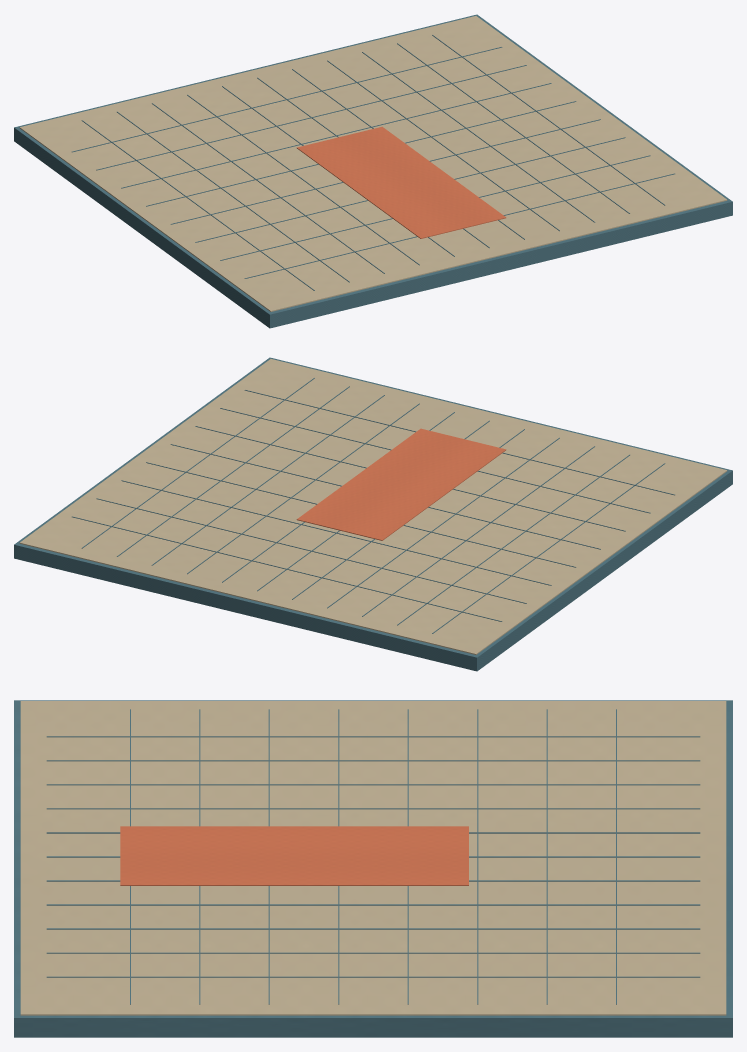
The model's file is atlas100-s045-a07.glb.
The picture shows the model from 3 angles, top to bottom: view 1: azimuth 30°, elevation 25°; view 2: azimuth 150°, elevation 25°; view 3: azimuth 270°, elevation 25°; orthographic projection. The views are drawn at different scales.
Parts seen in each view (by area): view 1: atlas100-s045-a07:part-001, atlas100-s045-a07:part-000, atlas100-s045-a07:part-021, atlas100-s045-a07:part-013, atlas100-s045-a07:part-014, atlas100-s045-a07:part-015, atlas100-s045-a07:part-020, atlas100-s045-a07:part-018, atlas100-s045-a07:part-019, atlas100-s045-a07:part-017, atlas100-s045-a07:part-016; view 2: atlas100-s045-a07:part-001, atlas100-s045-a07:part-000, atlas100-s045-a07:part-021, atlas100-s045-a07:part-013, atlas100-s045-a07:part-015, atlas100-s045-a07:part-014, atlas100-s045-a07:part-020, atlas100-s045-a07:part-016, atlas100-s045-a07:part-017, atlas100-s045-a07:part-018, atlas100-s045-a07:part-019; view 3: atlas100-s045-a07:part-001, atlas100-s045-a07:part-000, atlas100-s045-a07:part-021, atlas100-s045-a07:part-010, atlas100-s045-a07:part-009, atlas100-s045-a07:part-012, atlas100-s045-a07:part-002, atlas100-s045-a07:part-003, atlas100-s045-a07:part-004, atlas100-s045-a07:part-005, atlas100-s045-a07:part-011, atlas100-s045-a07:part-006 (+4 smaller).
Boxes of the visible parts, x1,y1,x2,y2 form: atlas100-s045-a07:part-001: (19,16,727,311); atlas100-s045-a07:part-000: (14,14,732,328); atlas100-s045-a07:part-021: (297,126,506,238); atlas100-s045-a07:part-013: (72,47,502,152); atlas100-s045-a07:part-014: (96,65,526,170); atlas100-s045-a07:part-015: (121,83,551,188); atlas100-s045-a07:part-020: (244,173,674,278); atlas100-s045-a07:part-018: (195,137,625,242); atlas100-s045-a07:part-019: (220,155,650,260); atlas100-s045-a07:part-017: (170,119,600,224); atlas100-s045-a07:part-016: (146,101,576,206); atlas100-s045-a07:part-001: (19,359,727,654); atlas100-s045-a07:part-000: (14,357,732,671); atlas100-s045-a07:part-021: (296,428,506,540); atlas100-s045-a07:part-013: (72,516,502,621); atlas100-s045-a07:part-015: (121,480,551,585); atlas100-s045-a07:part-014: (96,498,526,603); atlas100-s045-a07:part-020: (244,390,674,495); atlas100-s045-a07:part-016: (146,462,576,567); atlas100-s045-a07:part-017: (170,444,600,549); atlas100-s045-a07:part-018: (195,426,625,531); atlas100-s045-a07:part-019: (220,408,650,513); atlas100-s045-a07:part-001: (20,701,726,1015); atlas100-s045-a07:part-000: (14,700,732,1037); atlas100-s045-a07:part-021: (120,826,468,885); atlas100-s045-a07:part-010: (46,928,700,929); atlas100-s045-a07:part-009: (46,904,700,905); atlas100-s045-a07:part-012: (46,976,700,977); atlas100-s045-a07:part-002: (46,736,700,737); atlas100-s045-a07:part-003: (46,760,700,761); atlas100-s045-a07:part-004: (46,784,700,785); atlas100-s045-a07:part-005: (46,808,700,809); atlas100-s045-a07:part-011: (46,952,700,953); atlas100-s045-a07:part-006: (46,832,700,833).
Bounding box in the file's own units: 11.9 × 0.404 × 11.39.
Materials: 3 (3 with a texture image).
